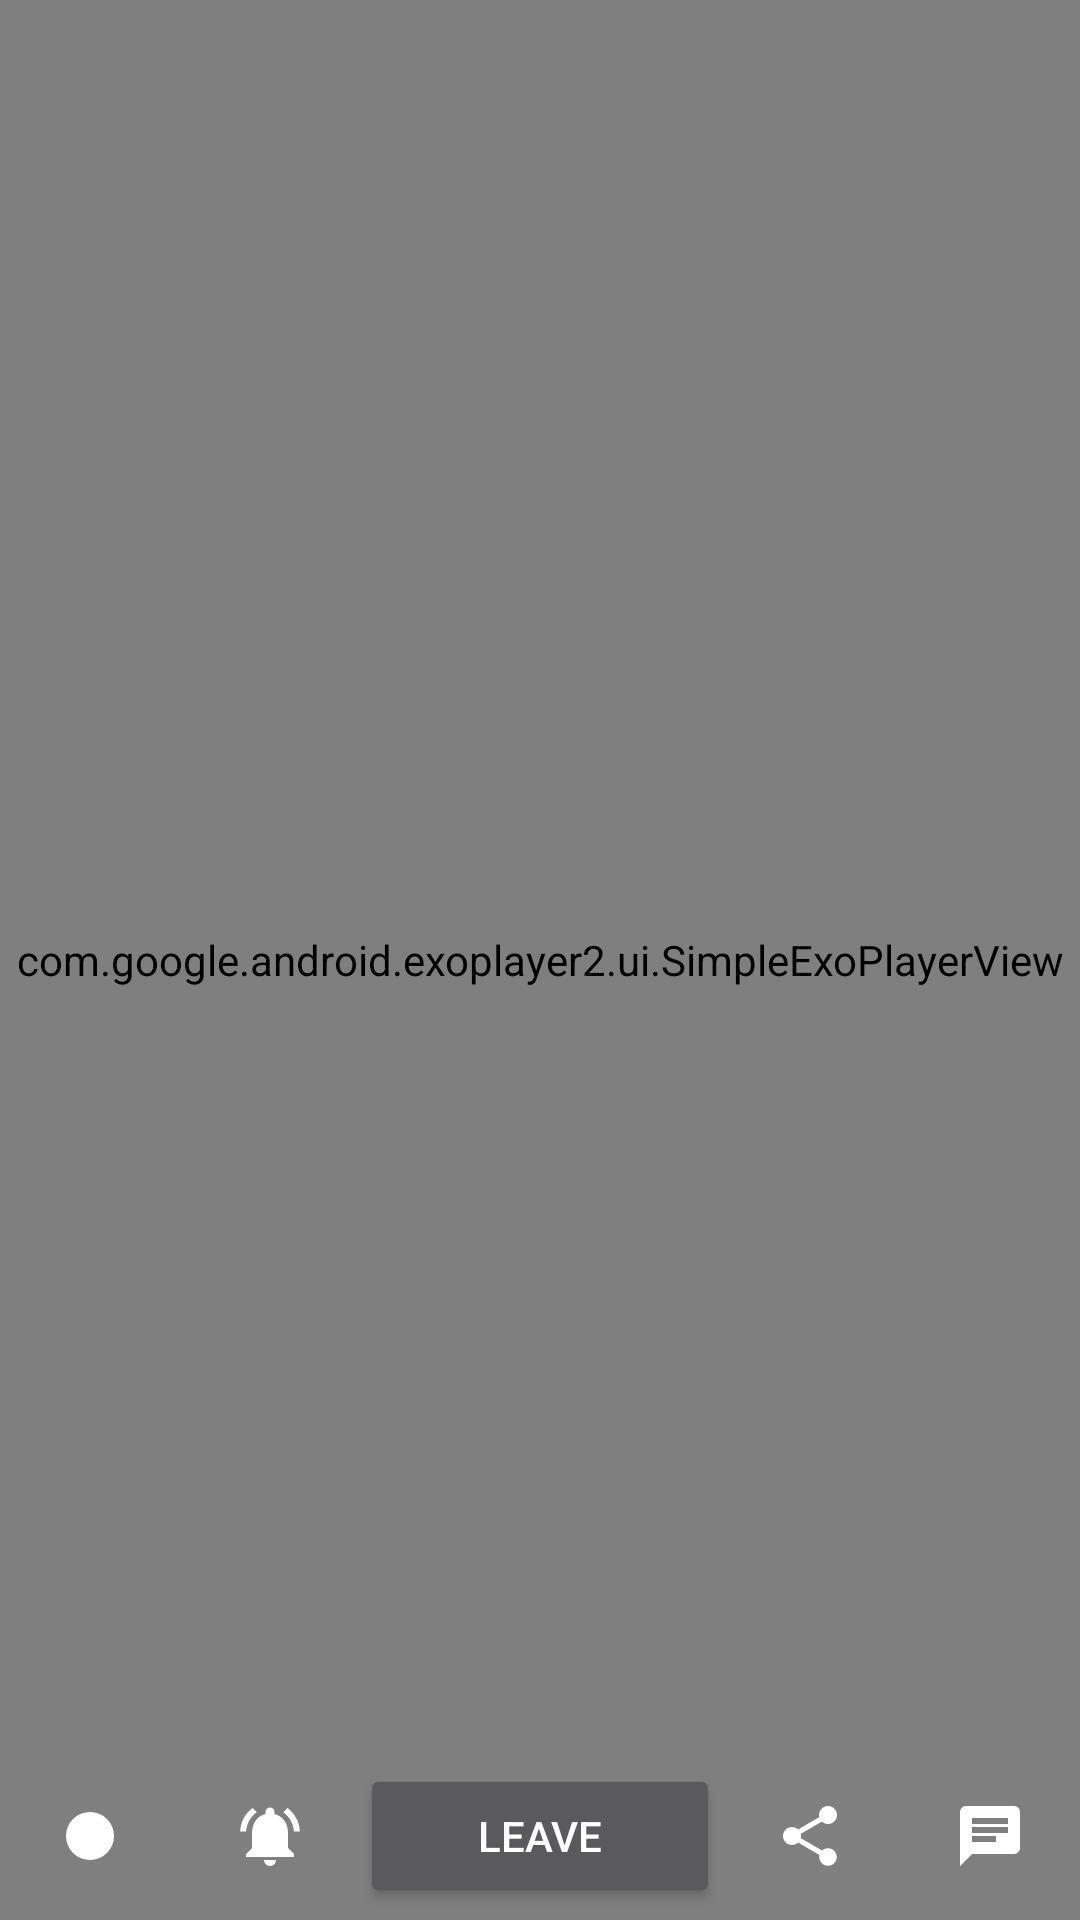

Icons on this 1080 × 1920 Android screen, each with the point to tap as point (x, y):
chat: point (990, 1836)
fiber manual record: point (90, 1836)
notifications: point (270, 1836)
share: point (810, 1836)
